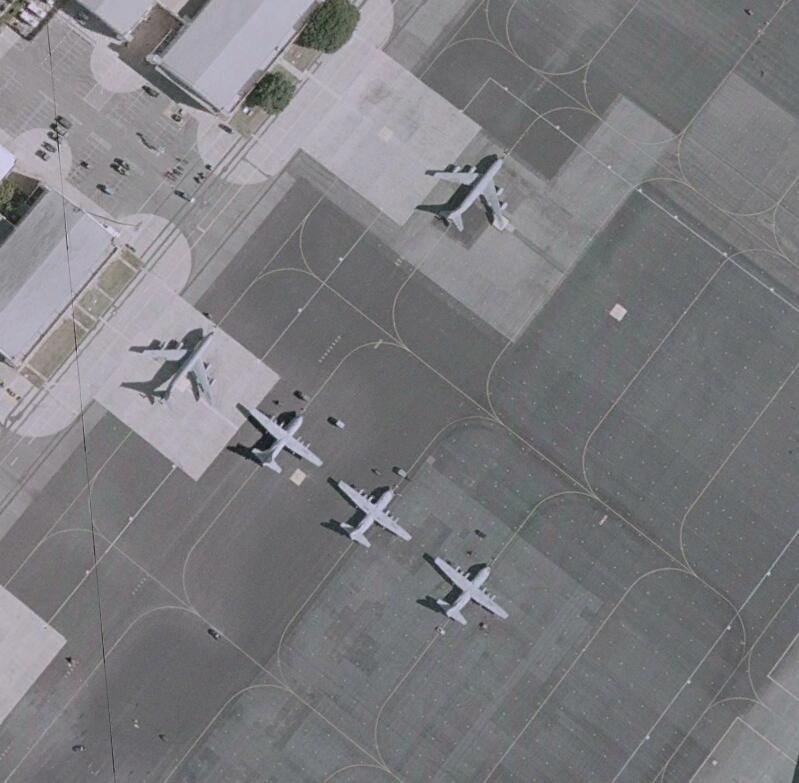A14: (425, 154, 514, 237), (142, 327, 221, 410)
A2: (432, 555, 511, 627), (247, 404, 327, 475), (334, 478, 414, 548)
